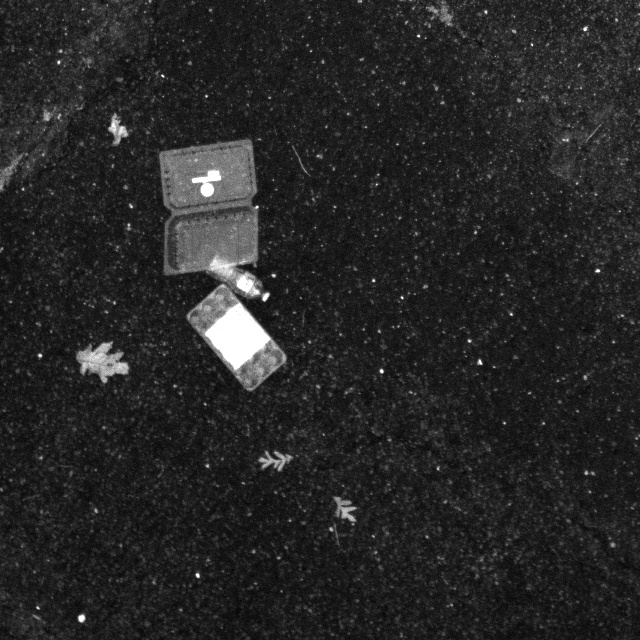bottle: (196, 255, 274, 308)
container: (151, 134, 260, 282), (183, 276, 288, 393)
